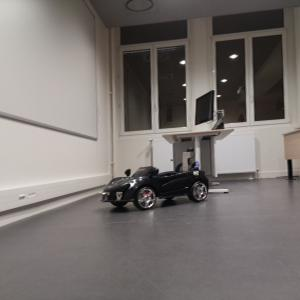big: (99, 161, 211, 210)
